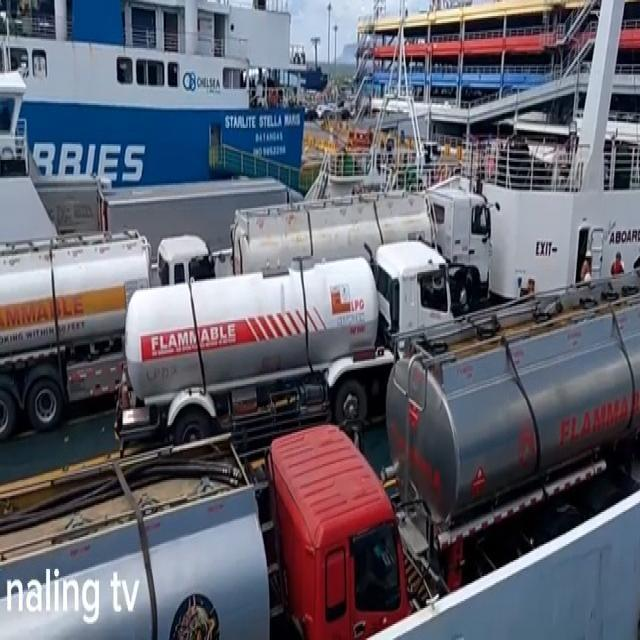truck: (0, 425, 411, 640), (382, 267, 640, 609), (121, 243, 455, 458), (0, 234, 217, 430), (234, 182, 492, 314)
